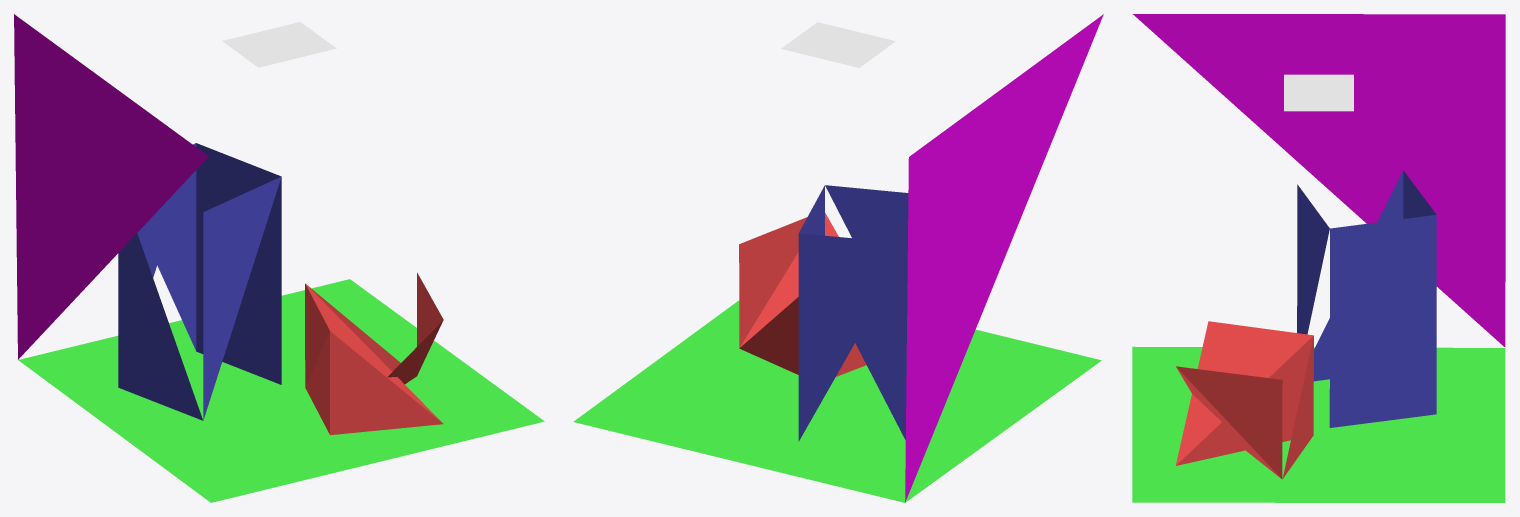
Rendered from cornell-box_separate.obj.
The picture shows the model from 3 angles, left to right: view 1: azimuth 30°, elevation 25°; view 2: azimuth 150°, elevation 25°; view 3: azimuth 270°, elevation 25°; orthographic projection. The views are drawn at different scales.
Parts seen in each view (by area): view 1: floor, left_wall, tall_box, short_box, light; view 2: floor, left_wall, tall_box, short_box, light; view 3: left_wall, floor, tall_box, short_box, light.
Part boxes in pixels (x1,y1,x2,y2): floor: [18, 279, 544, 502]; left_wall: [14, 14, 208, 359]; tall_box: [118, 143, 281, 420]; short_box: [305, 272, 443, 435]; light: [222, 22, 336, 67]; floor: [573, 300, 1101, 502]; left_wall: [905, 14, 1103, 502]; tall_box: [798, 185, 908, 441]; short_box: [739, 213, 866, 376]; light: [781, 22, 895, 67]; left_wall: [1133, 14, 1505, 347]; floor: [1132, 346, 1505, 502]; tall_box: [1297, 170, 1436, 427]; short_box: [1175, 321, 1313, 479]; light: [1284, 74, 1353, 111].
Size of what is drawn, in the model's own units: 5.56 by 5.49 by 5.6.
